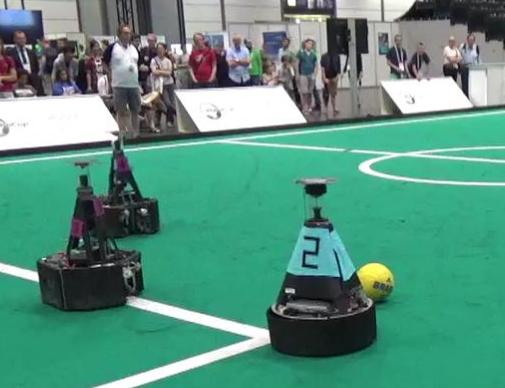robot: (262, 167, 380, 360), (29, 155, 149, 314), (98, 125, 162, 241)
